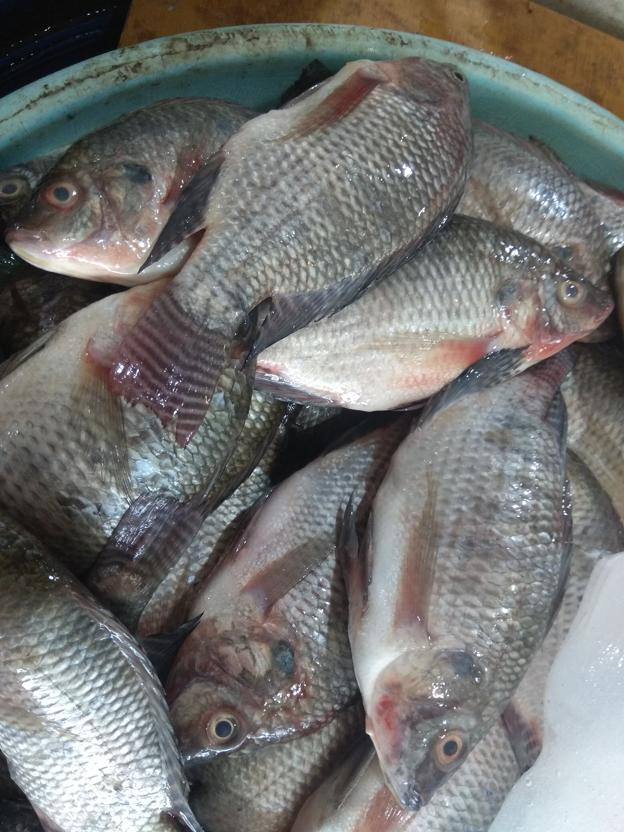Fish head: (354, 645, 499, 816), (7, 149, 172, 286), (164, 610, 305, 770), (498, 226, 617, 367), (386, 58, 474, 130)
Fish tail: (107, 288, 237, 450), (86, 484, 221, 588)
